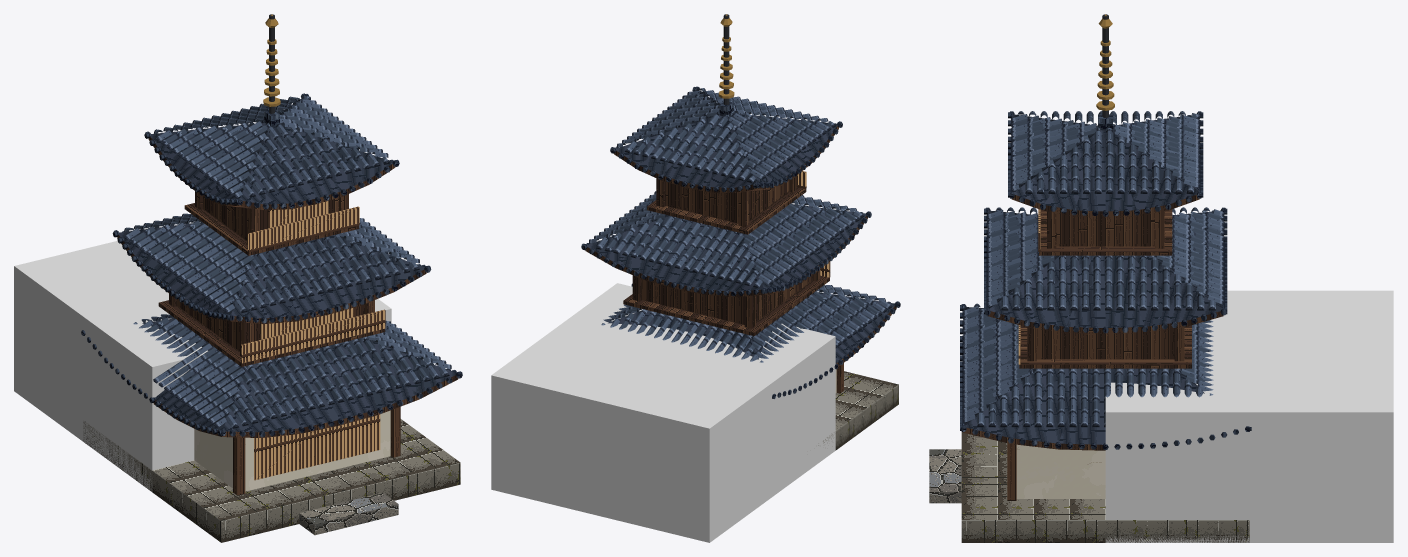
File: JP_Rich_Pagoda_A.glb
The picture shows the model from 3 angles, left to right: view 1: azimuth 30°, elevation 25°; view 2: azimuth 150°, elevation 25°; view 3: azimuth 270°, elevation 25°; orthographic projection. The views are drawn at different scales.
Visible parts, largest first — view 1: JP_Rich_Pagoda_A, COL_JP_Rich_Pagoda_A; view 2: COL_JP_Rich_Pagoda_A, JP_Rich_Pagoda_A; view 3: JP_Rich_Pagoda_A, COL_JP_Rich_Pagoda_A.
Part boxes in pixels (x1=…): JP_Rich_Pagoda_A: x1=81, y1=14, x2=462, y2=542; COL_JP_Rich_Pagoda_A: x1=14, y1=222, x2=391, y2=491; COL_JP_Rich_Pagoda_A: x1=491, y1=283, x2=835, y2=542; JP_Rich_Pagoda_A: x1=581, y1=14, x2=900, y2=451; JP_Rich_Pagoda_A: x1=929, y1=14, x2=1251, y2=542; COL_JP_Rich_Pagoda_A: x1=1105, y1=290, x2=1393, y2=542.
Size of the model in its own units: 8.1 by 14.35 by 12.9.
10 materials, 10 textured.
